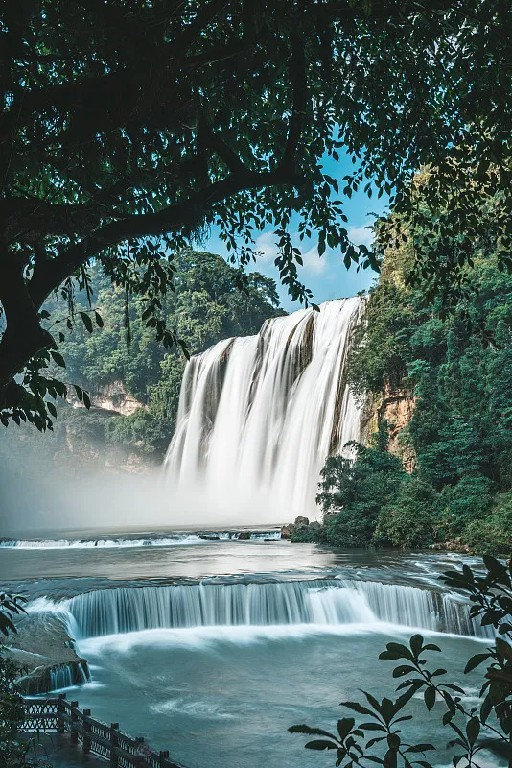Huangguoshu: (163, 296, 361, 526)
